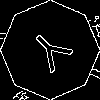Y: (25, 25, 82, 81)
